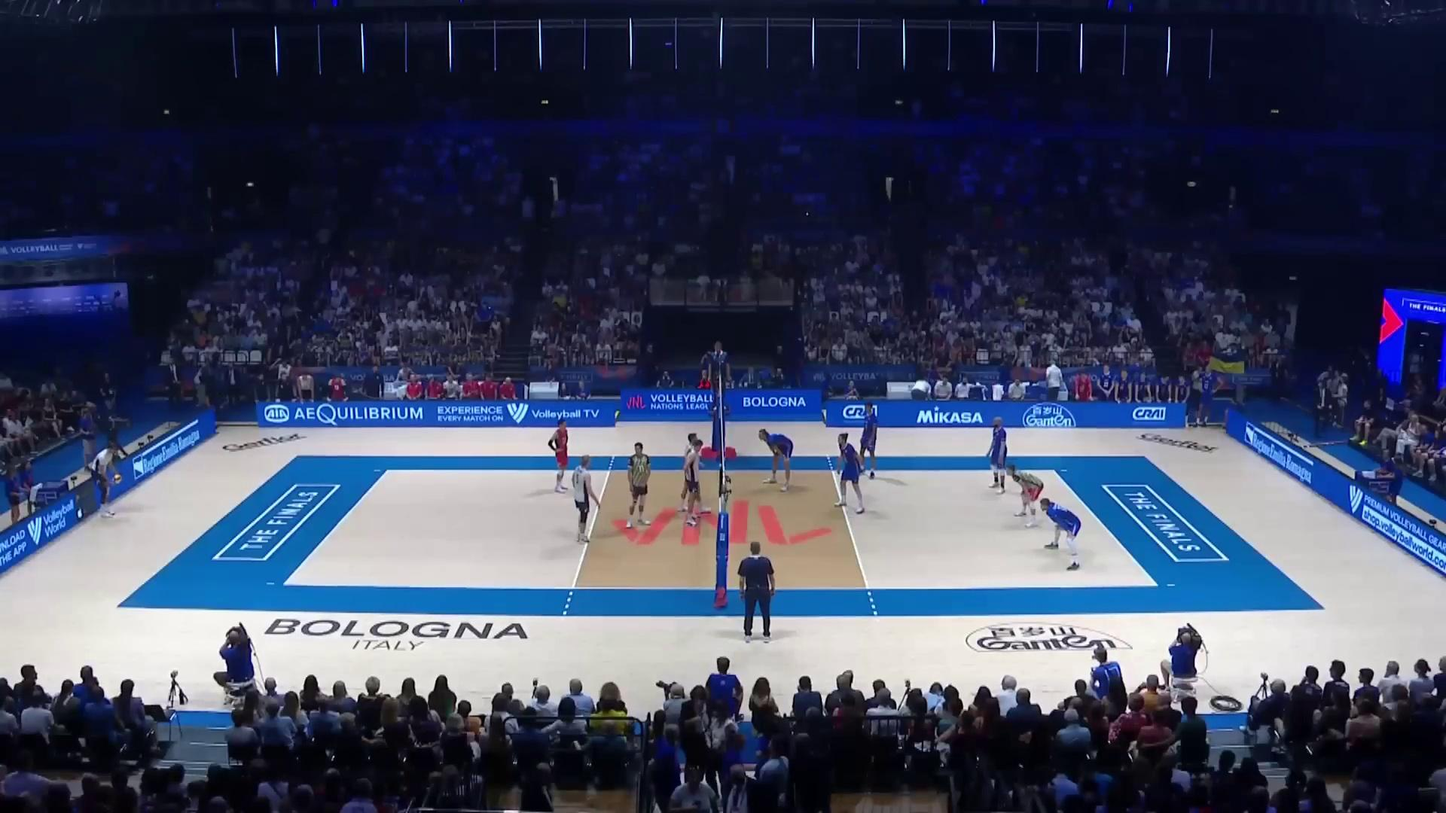player: (1039, 497, 1085, 572), (572, 456, 603, 542), (679, 433, 710, 514), (757, 426, 796, 490), (833, 436, 864, 516), (1009, 467, 1047, 529), (89, 443, 121, 515), (626, 443, 652, 527), (685, 440, 707, 528), (987, 417, 1011, 492), (549, 420, 572, 493), (861, 411, 881, 485)
refree: (741, 544, 779, 640), (705, 341, 730, 414)
